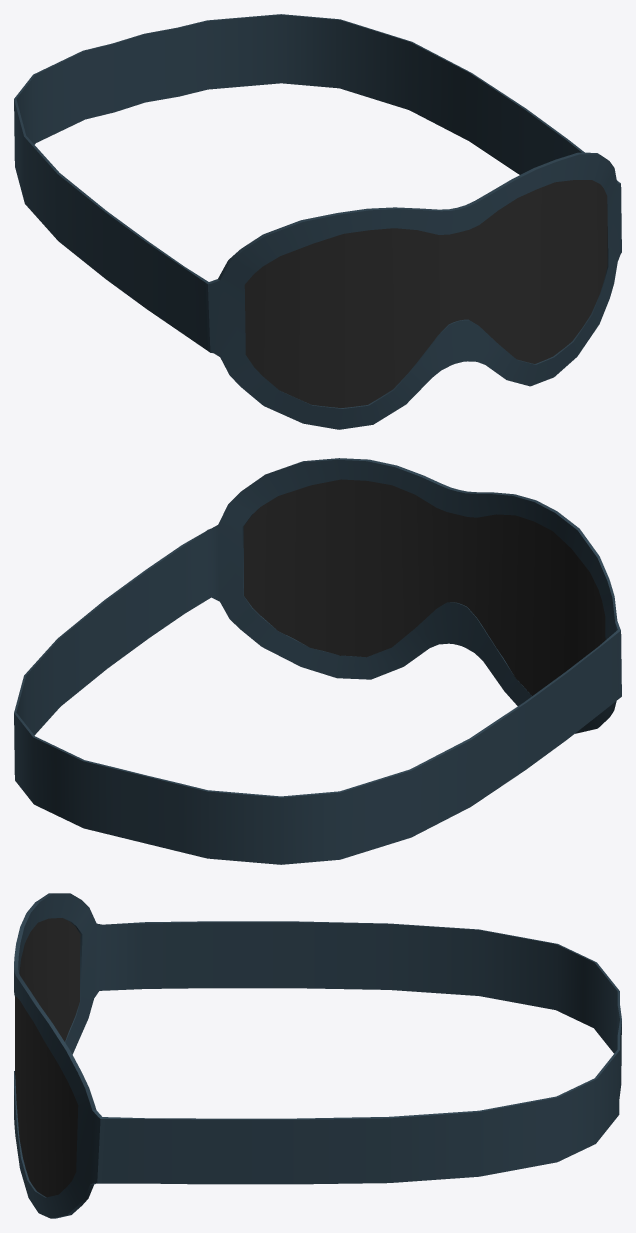
Rendered from ski-goggles-ipoly3d_4YCjSY3U6H.glb.
3 renders of one model, top to bottom at view 1: azimuth 30°, elevation 25°; view 2: azimuth 150°, elevation 25°; view 3: azimuth 270°, elevation 25°, orthographic. The views are drawn at different scales.
Parts seen in each view (by area): view 1: glasses25.001; view 2: glasses25.001; view 3: glasses25.001.
Boxes of the visible parts, box(x1,y1,x2,y2) form: glasses25.001: box(14, 14, 621, 429); glasses25.001: box(14, 458, 621, 864); glasses25.001: box(14, 893, 621, 1218).
Size of the model in its own units: 2.03 by 1.01 by 2.63.
